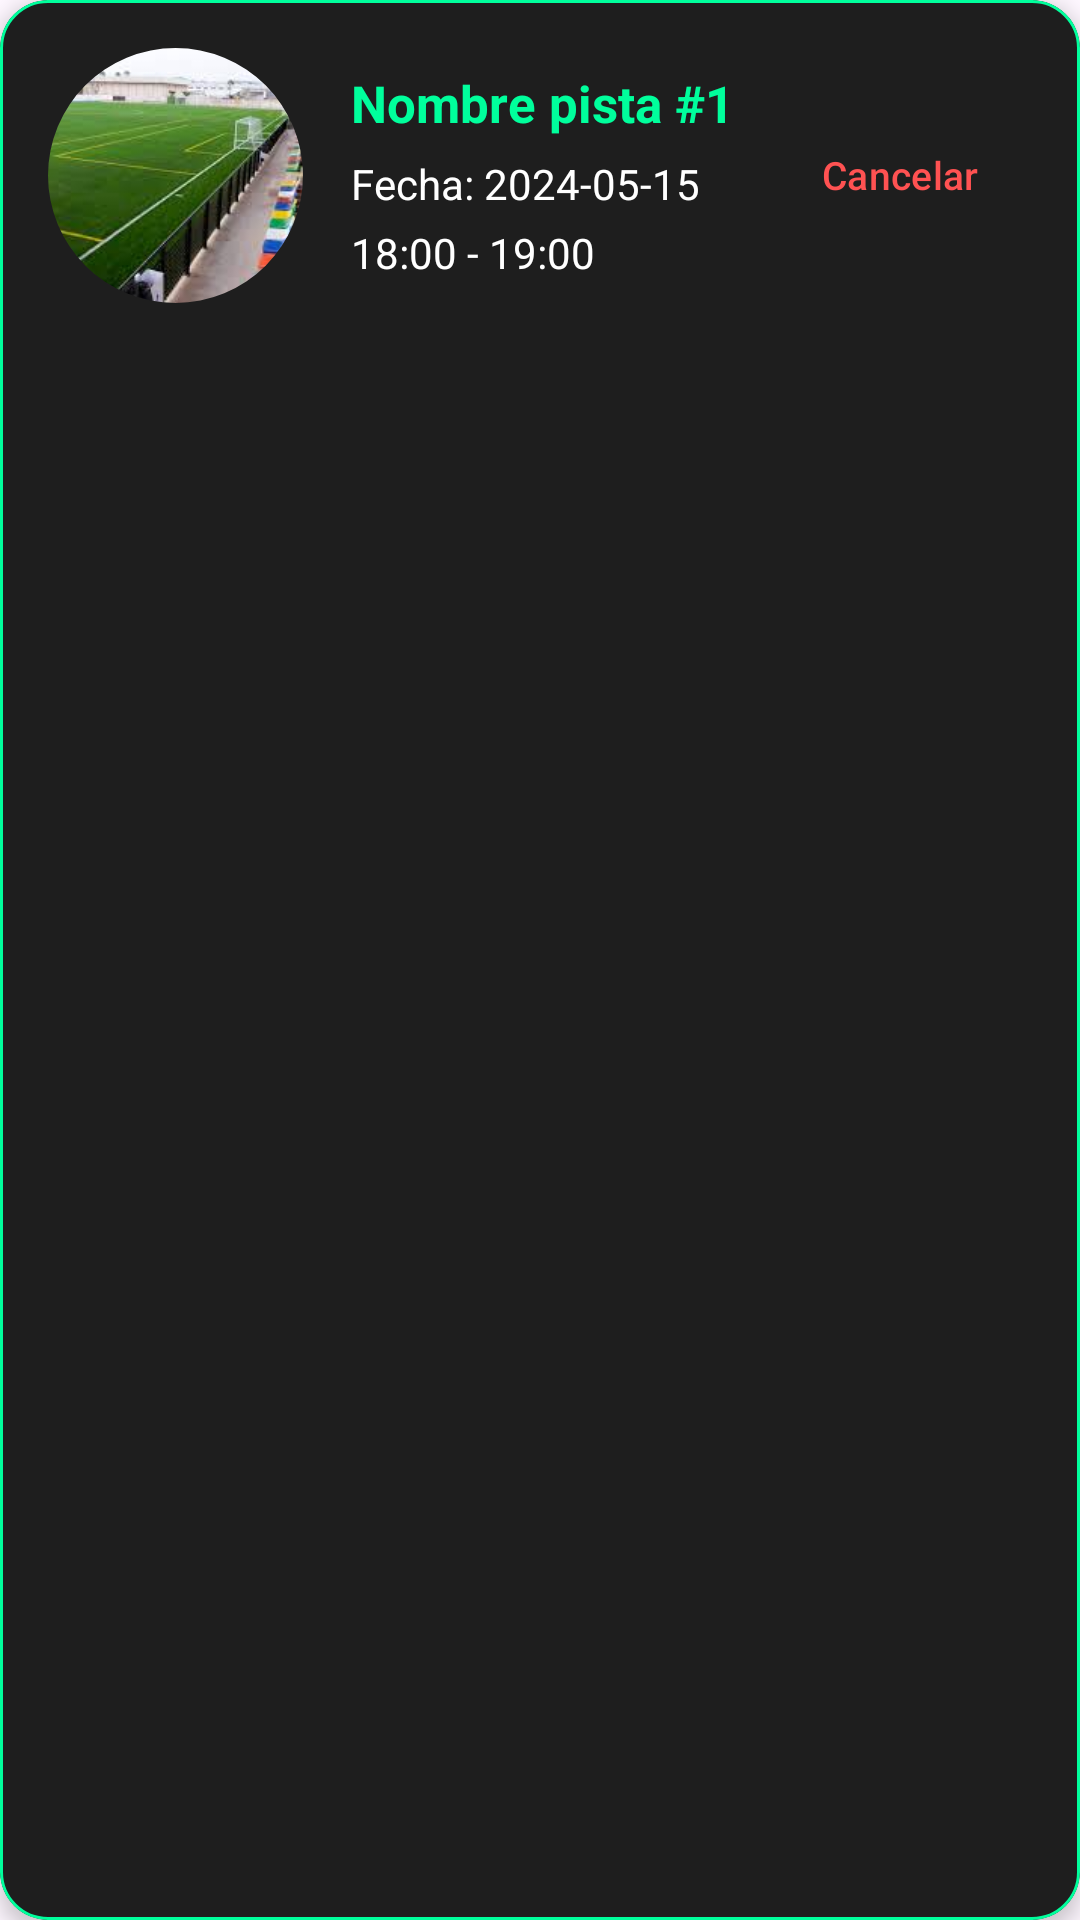

Icon click points for this 1080*1920 phone screenshot, format (x,y):
pista ejemplo: (175,175)
